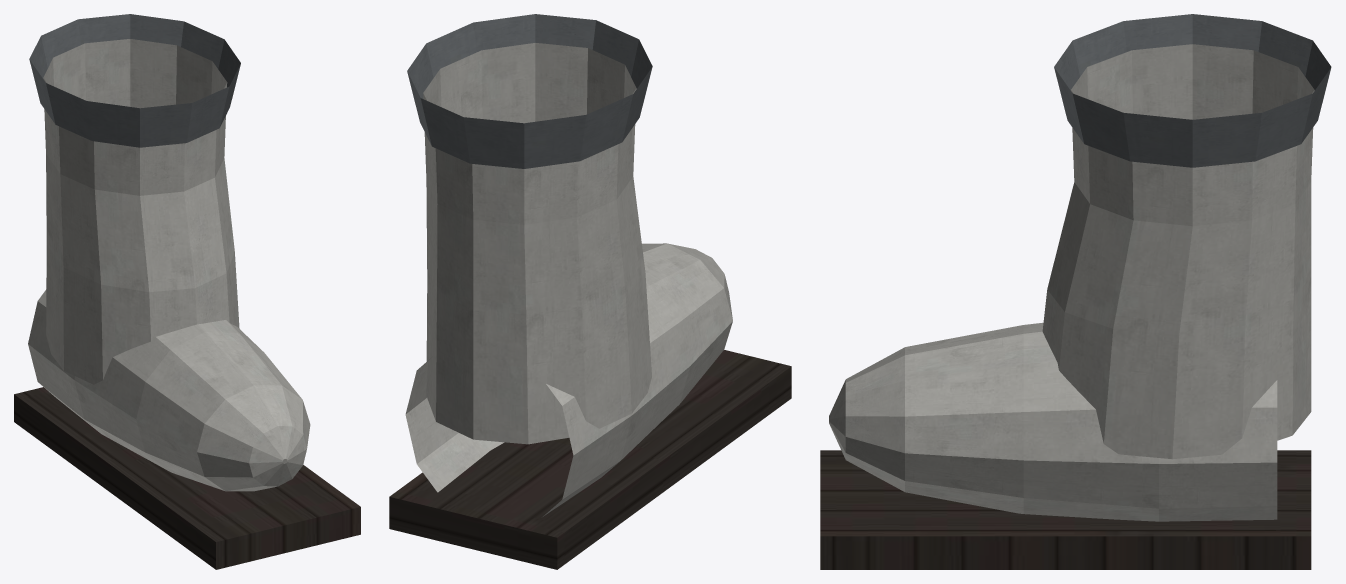
The model's file is eq_future_1_boot.glb.
3 renders of one model, left to right at view 1: azimuth 30°, elevation 25°; view 2: azimuth 150°, elevation 25°; view 3: azimuth 270°, elevation 25°, orthographic. The views are drawn at different scales.
Visible parts, largest first — view 1: eq_future_1_boot; view 2: eq_future_1_boot; view 3: eq_future_1_boot.
Part boxes in pixels (left/top/right/bottom): eq_future_1_boot: left=14, top=14, right=360, bottom=569; eq_future_1_boot: left=389, top=14, right=791, bottom=569; eq_future_1_boot: left=820, top=14, right=1331, bottom=569.
Size of the model in its own units: 0.148 by 0.3 by 0.302.
3 materials, 3 textured.
